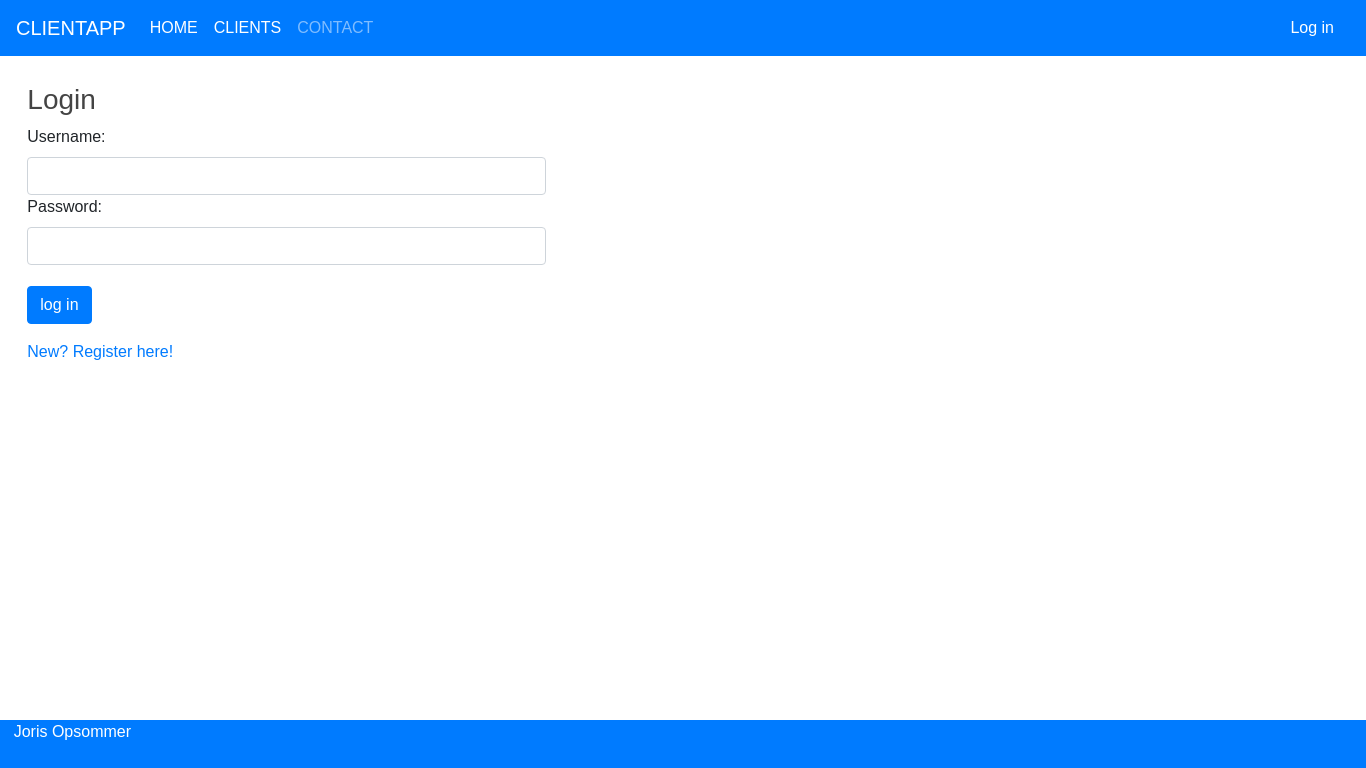
Test: should show an error when the login is invalid
In the field with test id "username": (287, 176) [27,157,546,195], type "nottestacc"
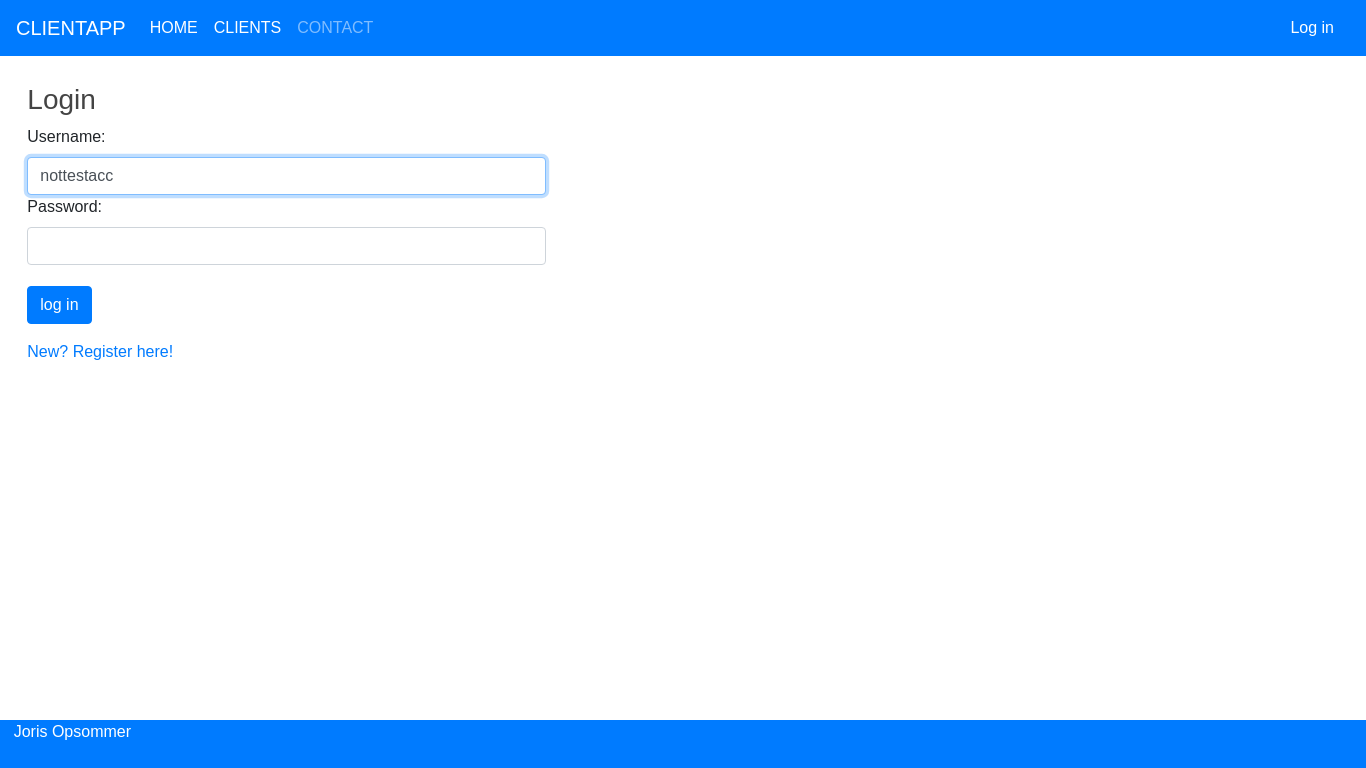
In the password field with test id "password": (287, 246) [27,227,546,265], type "invalid"
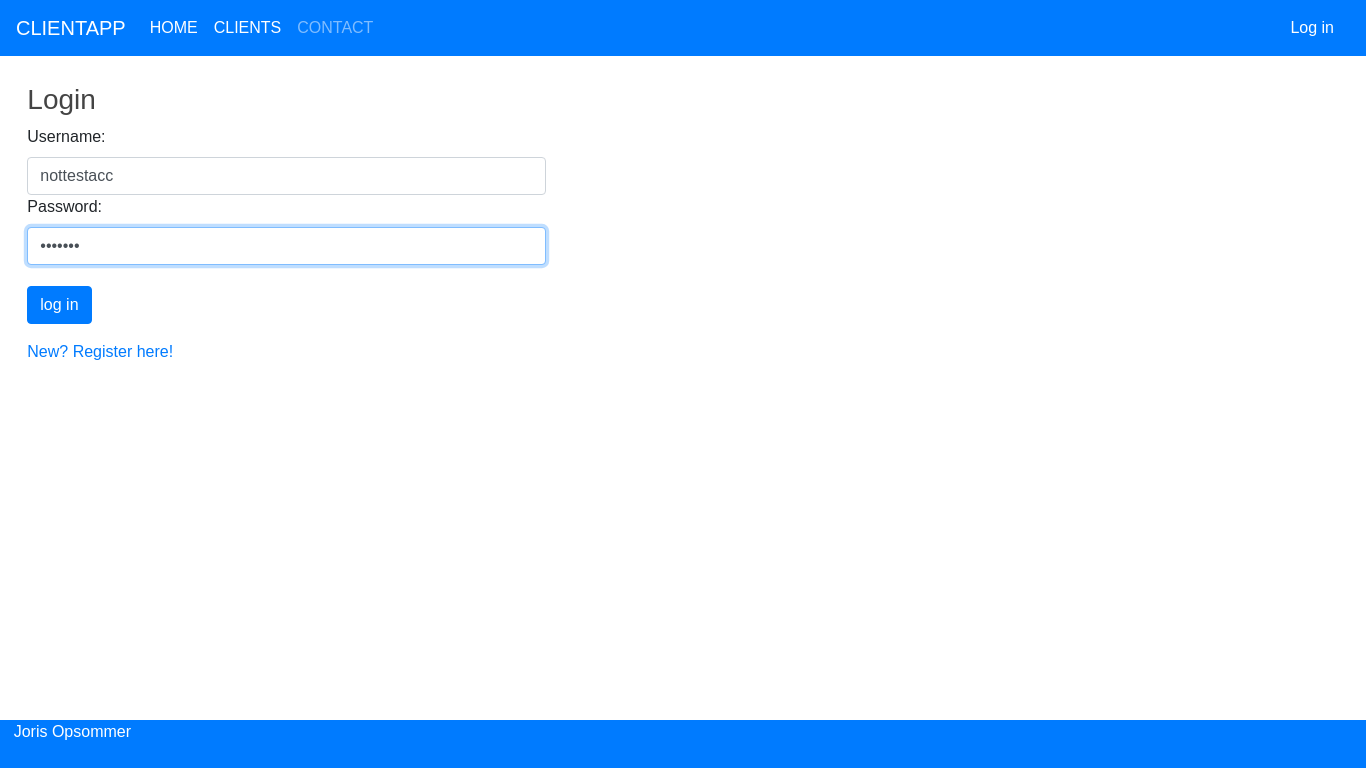
Click the button with test id "loginBtn": (59, 305) [27,286,91,324]
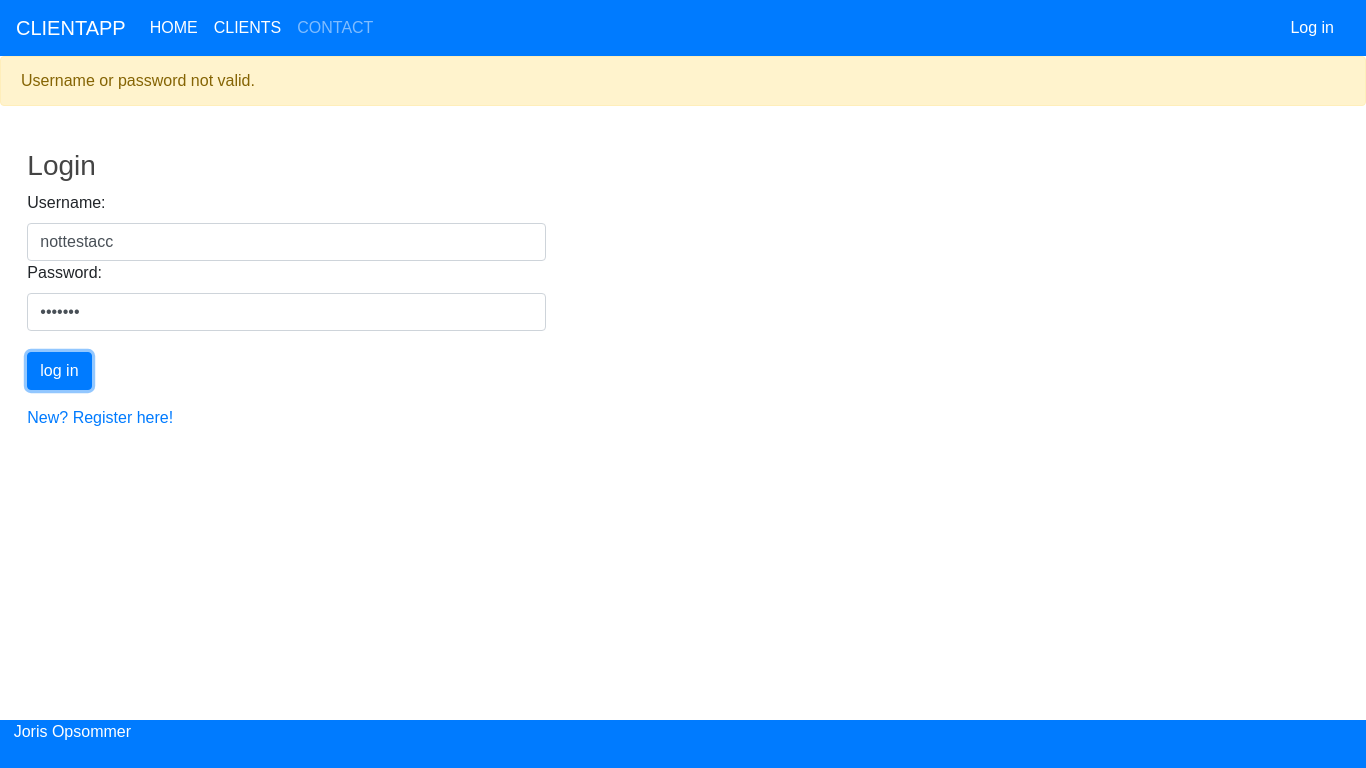
expect the text "not valid" is shown: met, box [21,72,255,89]
